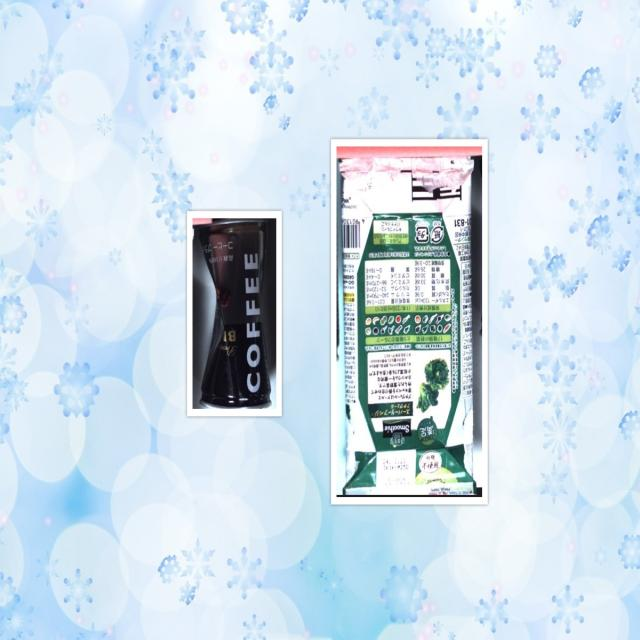Aluminium Foil: (339, 145, 476, 499)
Can: (191, 218, 280, 408)
